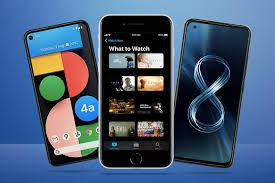Smartphone: (171, 13, 249, 171), (101, 12, 171, 171), (24, 22, 98, 168)
